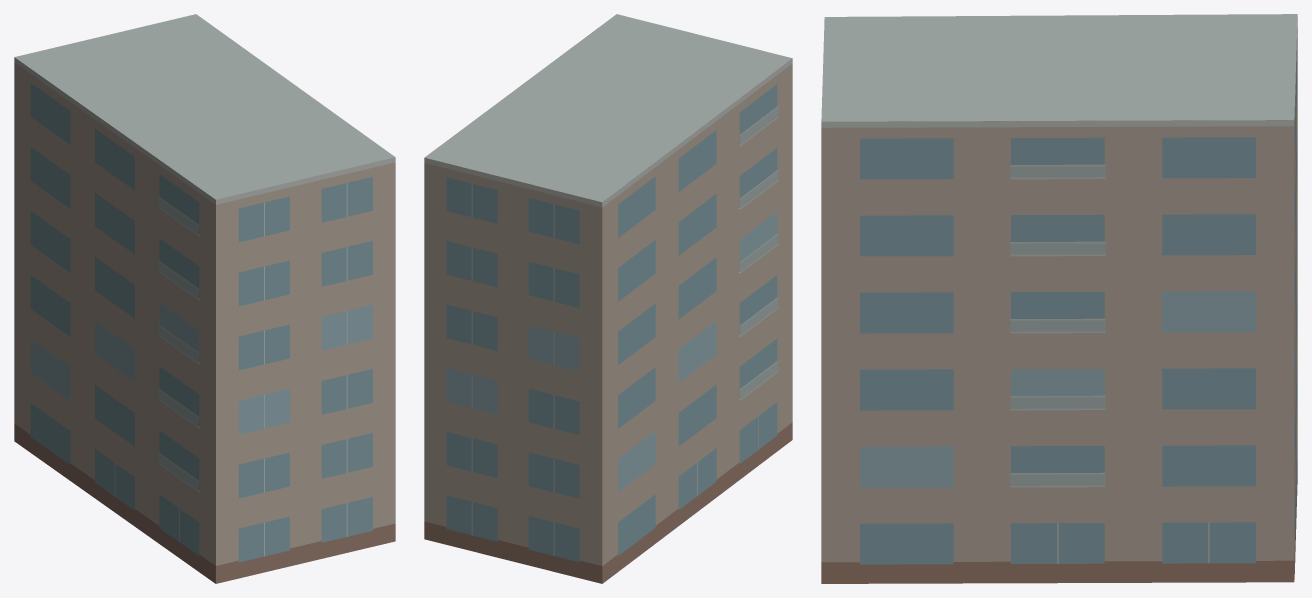
Rendered from survey-upis-32998339.glb.
The picture shows the model from 3 angles, left to right: view 1: azimuth 30°, elevation 25°; view 2: azimuth 150°, elevation 25°; view 3: azimuth 270°, elevation 25°; orthographic projection. The views are drawn at different scales.
Parts seen in each view (by area): view 1: survey-upis-32998339.tmp; view 2: survey-upis-32998339.tmp; view 3: survey-upis-32998339.tmp.
Boxes of the visible parts, x1=… form: survey-upis-32998339.tmp: x1=14, y1=14, x2=395, y2=583; survey-upis-32998339.tmp: x1=424, y1=14, x2=792, y2=583; survey-upis-32998339.tmp: x1=821, y1=14, x2=1297, y2=583.
Size of the model in its own units: 9.15 by 18.3 by 17.1.
